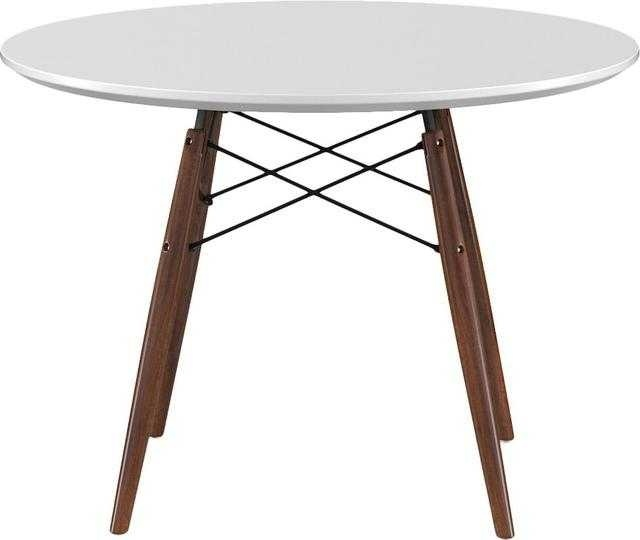obstacle: (128, 199, 493, 536), (0, 63, 195, 536), (452, 60, 639, 537)
